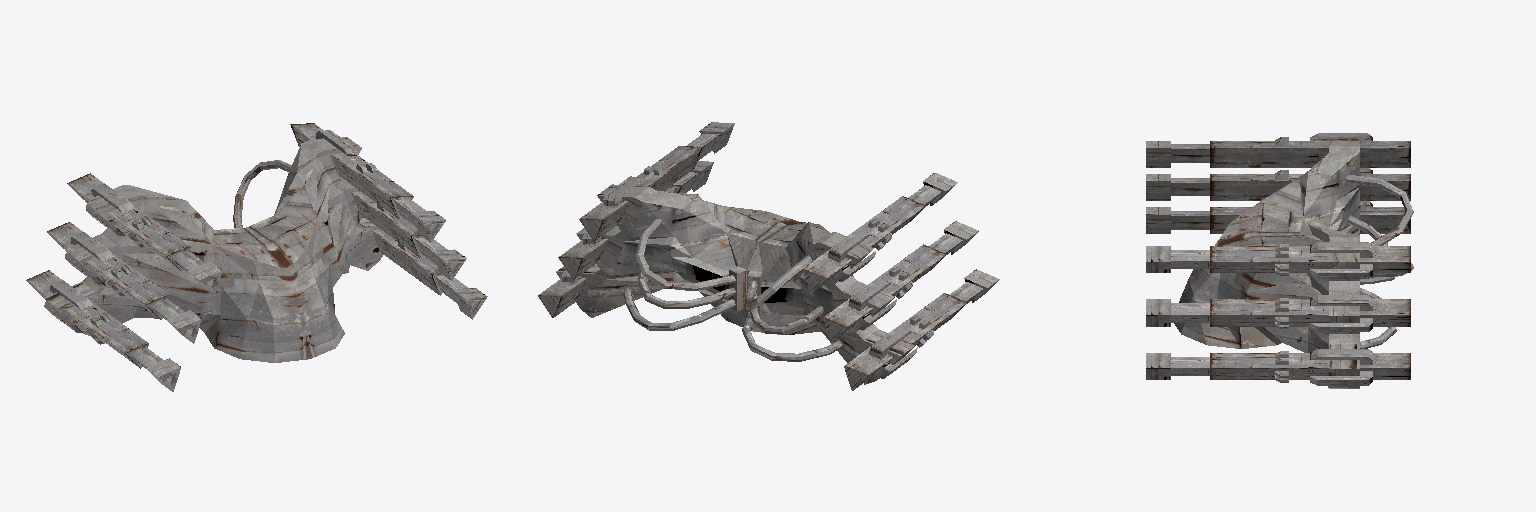
3 renders of one model, left to right at view 1: azimuth 30°, elevation 25°; view 2: azimuth 150°, elevation 25°; view 3: azimuth 270°, elevation 25°, orthographic.
Visible parts, largest first — view 1: Turret_Cube, R-1_Cube.002, R-2_Cube.002, R-3_Cube.002, L-1_Cube.001, L-3_Cube.001, L-2_Cube.001; view 2: Turret_Cube, R-2_Cube.002, R-3_Cube.002, R-1_Cube.002, L-1_Cube.001, L-2_Cube.001, L-3_Cube.001; view 3: Turret_Cube, L-2_Cube.001, L-1_Cube.001, L-3_Cube.001, R-1_Cube.002, R-2_Cube.002, R-3_Cube.002.
Part boxes in pixels (x1,y1,x2,y2): Turret_Cube: (44,137,382,362); R-1_Cube.002: (67,173,222,295); R-2_Cube.002: (47,222,201,343); R-3_Cube.002: (26,270,180,391); L-1_Cube.001: (290,123,445,242); L-3_Cube.001: (372,230,487,319); L-2_Cube.001: (351,192,466,280); Turret_Cube: (556,184,915,384); R-2_Cube.002: (823,221,978,342); R-3_Cube.002: (844,269,999,390); R-1_Cube.002: (802,173,957,294); L-1_Cube.001: (579,122,734,241); L-2_Cube.001: (558,161,713,279); L-3_Cube.001: (538,270,586,317); Turret_Cube: (1174,141,1413,388); L-2_Cube.001: (1146,295,1410,331); L-1_Cube.001: (1146,242,1410,278); L-3_Cube.001: (1146,349,1410,385); R-1_Cube.002: (1146,133,1410,167); R-2_Cube.002: (1146,168,1410,200); R-3_Cube.002: (1146,201,1410,233).
Size of the model in its own units: 5 by 1.84 by 3.36.
1 materials, 1 textured.